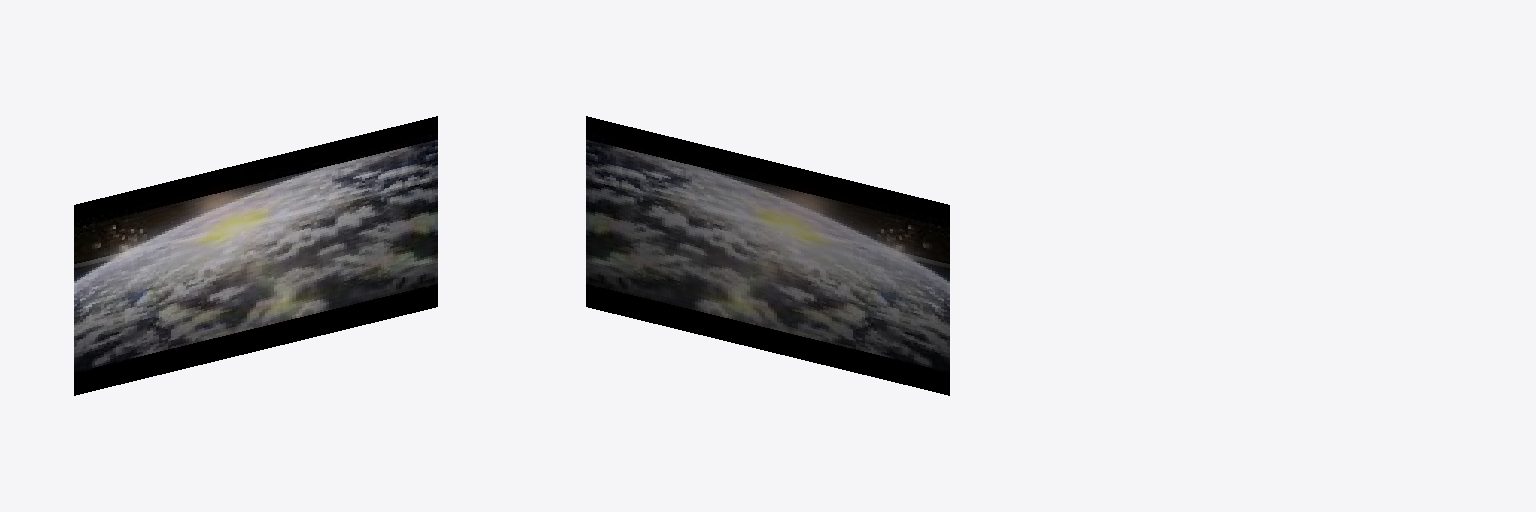
The picture shows the model from 3 angles: view 1: azimuth 30°, elevation 25°; view 2: azimuth 150°, elevation 25°; view 3: azimuth 270°, elevation 25°; orthographic projection.
Size of the model in its own units: 20 by 10 by 0.
1 materials, 1 textured.